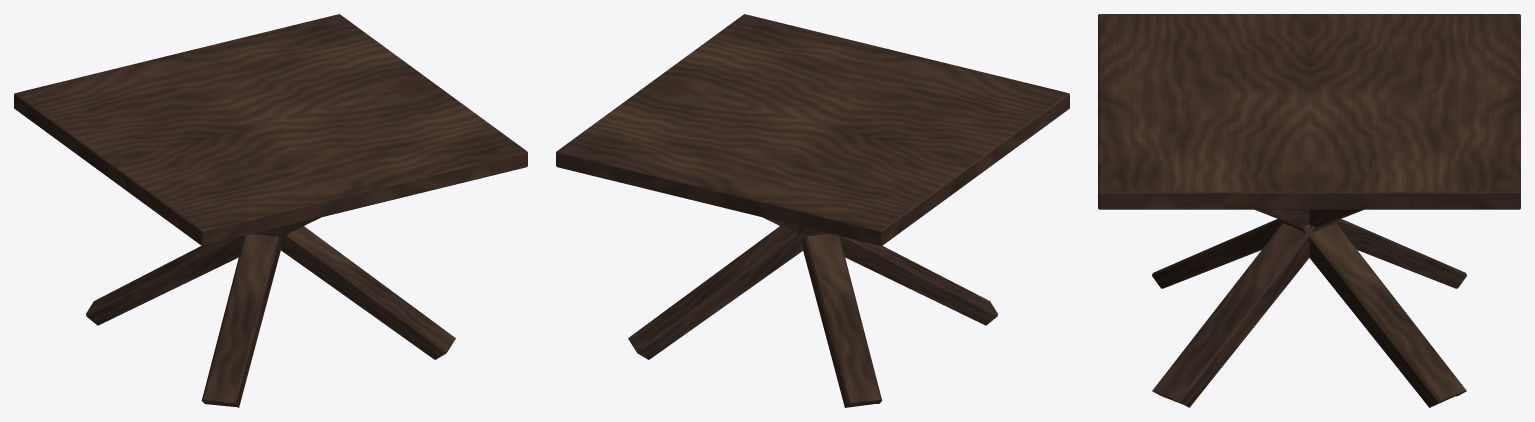
Rendered from square-walnut.glb.
3 renders of one model, left to right at view 1: azimuth 30°, elevation 25°; view 2: azimuth 150°, elevation 25°; view 3: azimuth 270°, elevation 25°, orthographic. The views are drawn at different scales.
Visible parts, largest first — view 1: Wood_Square, Base_Square; view 2: Wood_Square, Base_Square; view 3: Wood_Square, Base_Square.
Part boxes in pixels (left/top/right/bottom): Wood_Square: left=14, top=14, right=527, bottom=246; Base_Square: left=86, top=217, right=455, bottom=407; Wood_Square: left=556, top=14, right=1069, bottom=246; Base_Square: left=628, top=217, right=997, bottom=407; Wood_Square: left=1098, top=14, right=1520, bottom=209; Base_Square: left=1152, top=209, right=1466, bottom=407.
Size of the model in its own units: 1.22 by 0.762 by 1.22.
2 materials, 2 textured.
